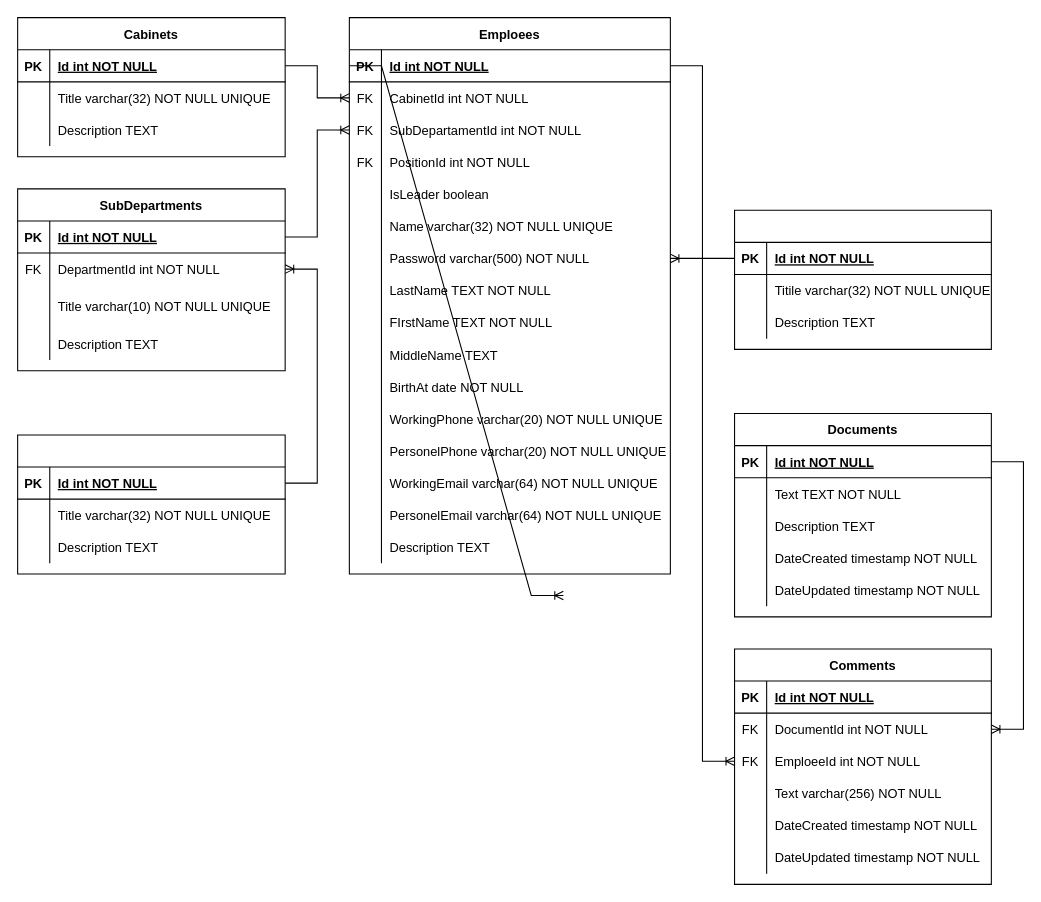
This 1041x902 diagram has some shape labels left out. The box of each missing label's shape, as (x1, y1, x2, y2) in pixels:
Departments: (17, 434, 285, 574)
Positions: (733, 209, 991, 349)
